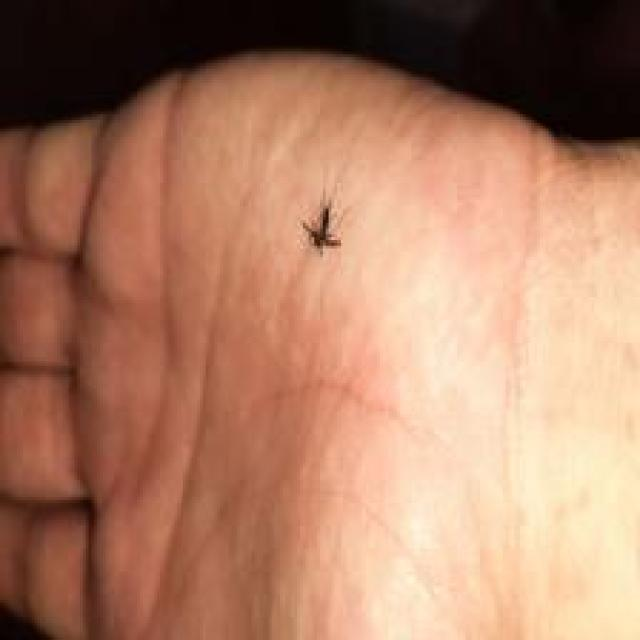Aedes albopictus: (300, 198, 343, 256)
